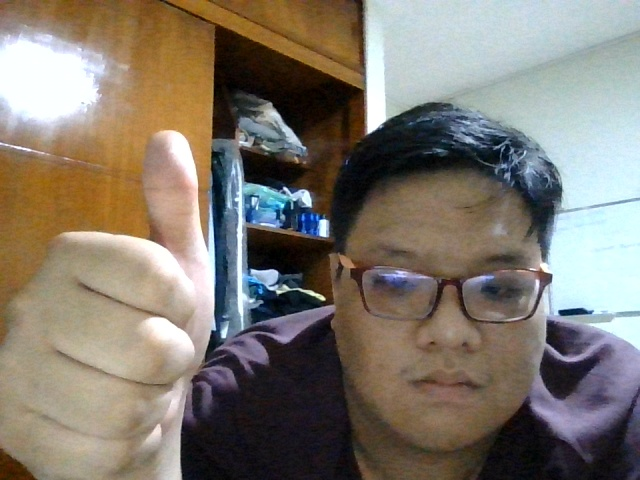si: (1, 127, 197, 479)
